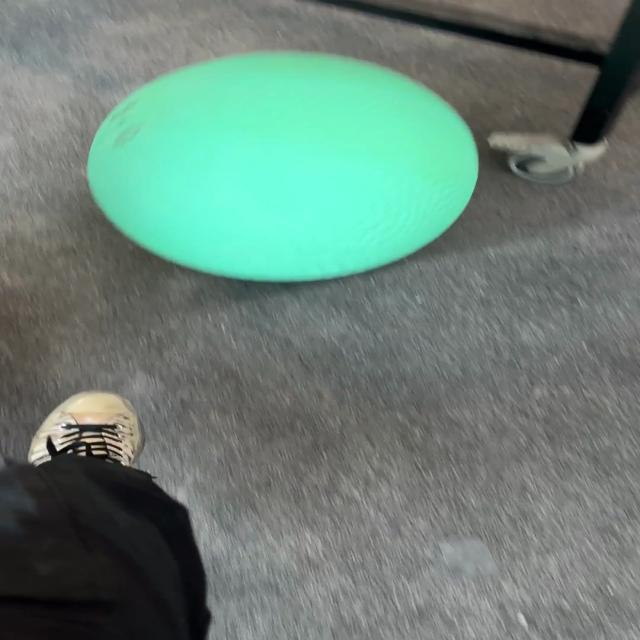Algae: (84, 50, 481, 283)
